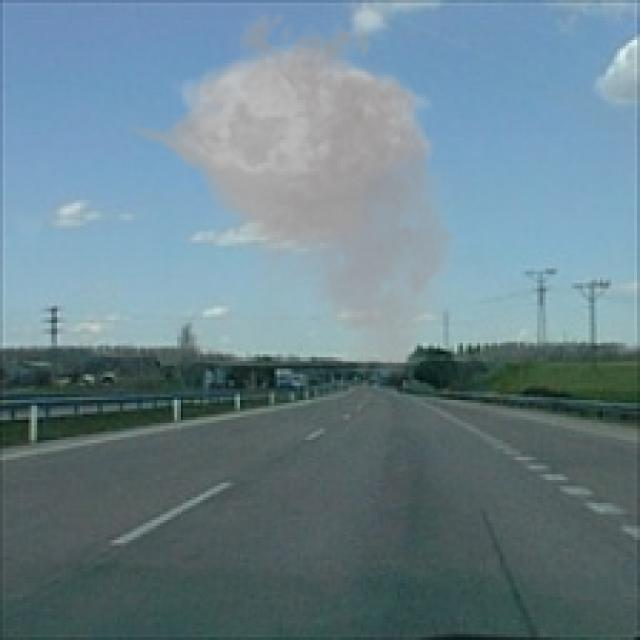smoke: (120, 0, 471, 383)
